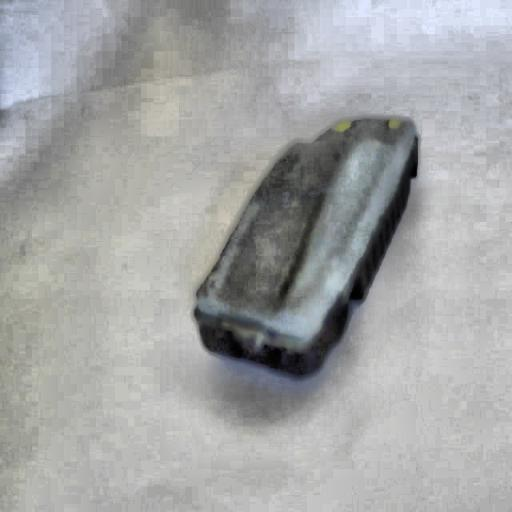normal_car: (189, 116, 418, 379)
